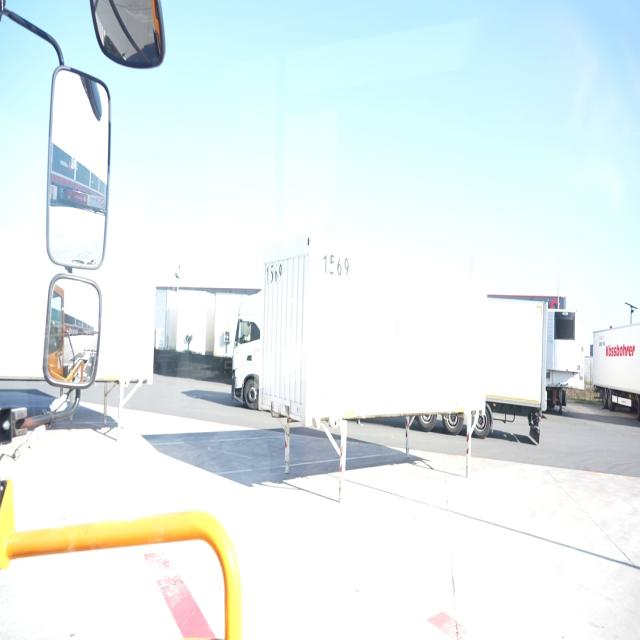Code: (315, 248, 352, 281), (265, 258, 286, 285)
